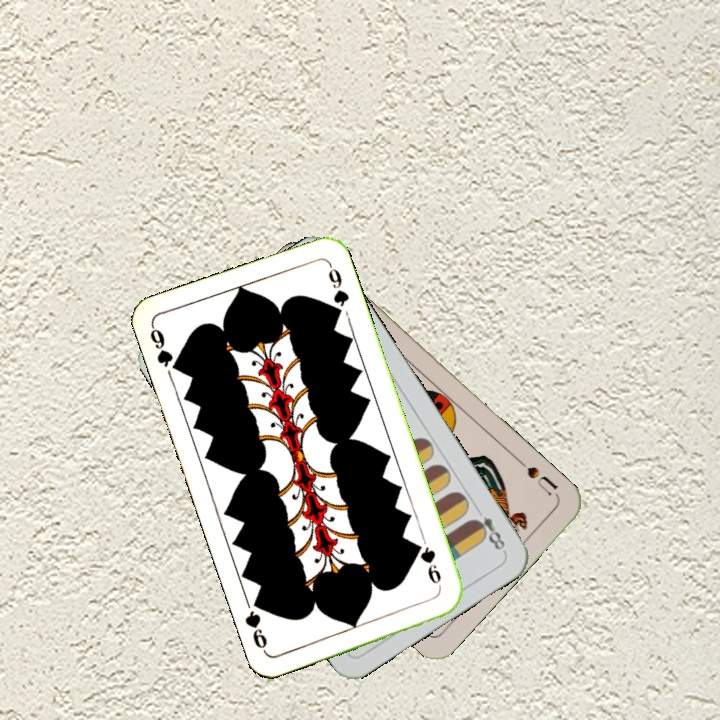E8: (468, 502, 508, 555)
G9: (146, 322, 184, 375), (412, 539, 445, 593)
SU: (513, 455, 561, 499)
